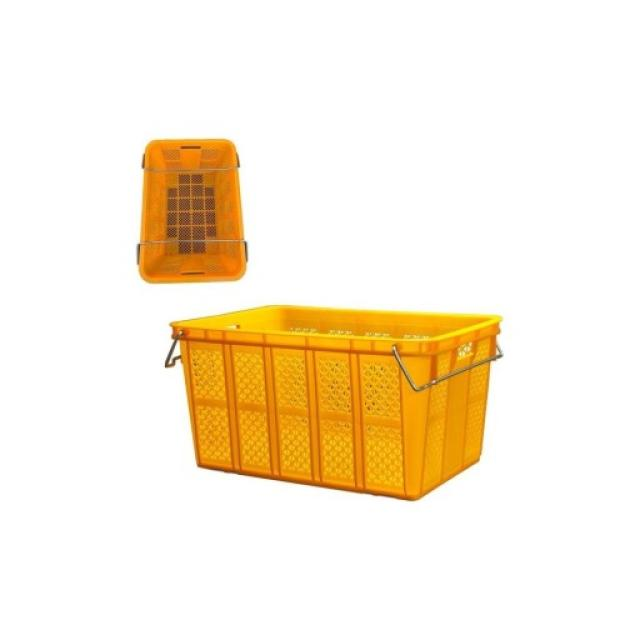basket: (164, 302, 502, 503), (137, 140, 249, 285)
